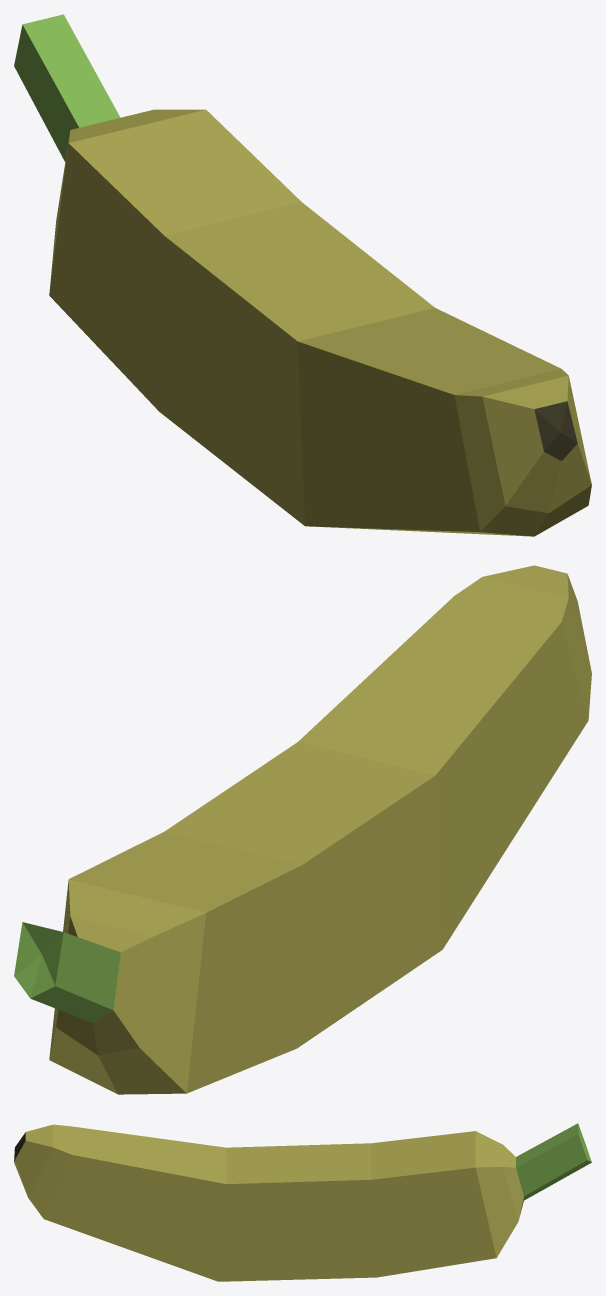
File: banana.glb
3 renders of one model, top to bottom at view 1: azimuth 30°, elevation 25°; view 2: azimuth 150°, elevation 25°; view 3: azimuth 270°, elevation 25°, orthographic. The views are drawn at different scales.
Visible parts, largest first — view 1: Banana_Higher_Poly; view 2: Banana_Higher_Poly; view 3: Banana_Higher_Poly.
Part boxes in pixels (bbox=[...]): Banana_Higher_Poly: bbox=[14, 14, 591, 536]; Banana_Higher_Poly: bbox=[14, 565, 591, 1094]; Banana_Higher_Poly: bbox=[14, 1123, 591, 1281].
Size of the model in its own units: 0.04 by 0.0738 by 0.2675.
